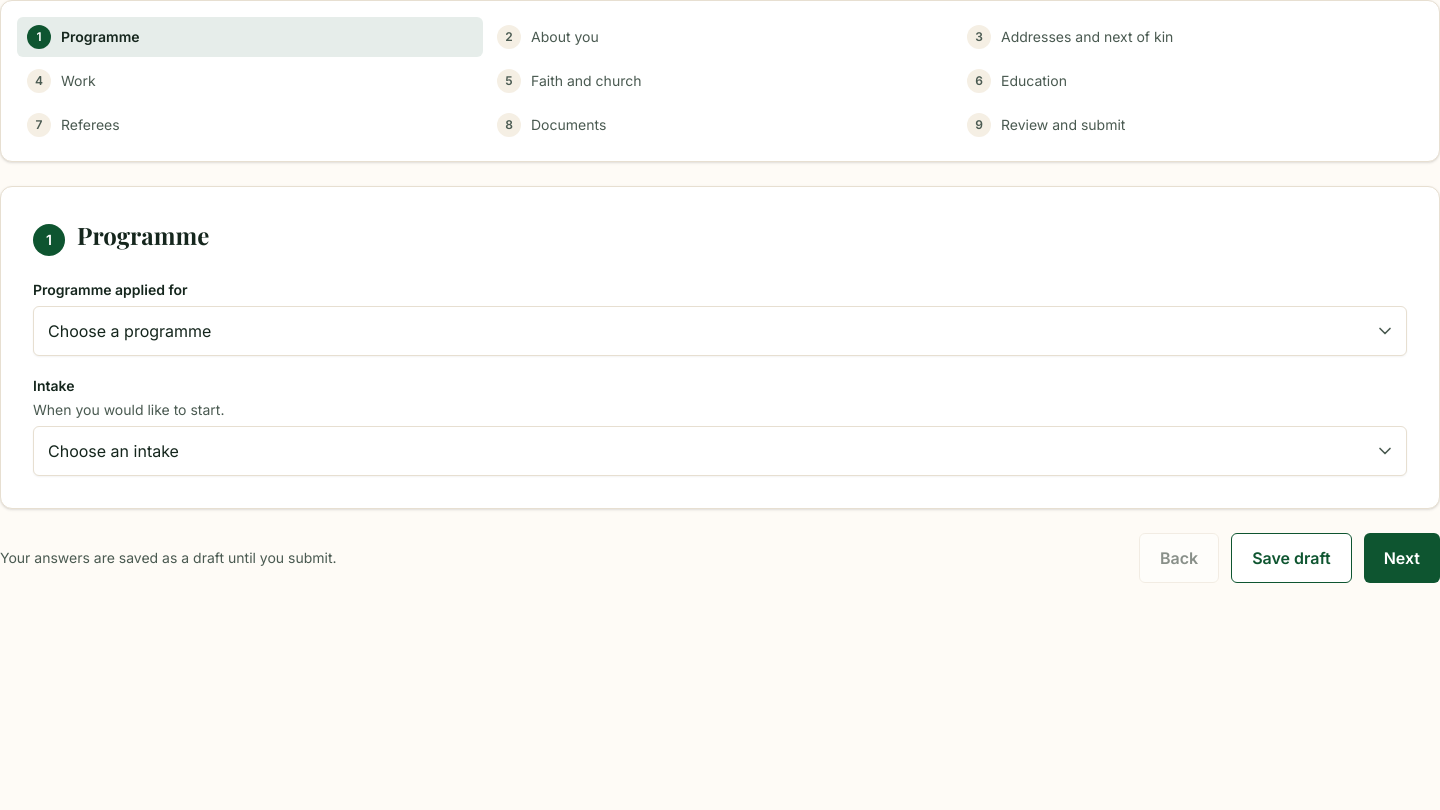
Test: ApplicationForm › the stepper jumps straight to a step
Click the button "5 Faith and church".
click(586, 80)  # box [487,61,953,101]
(page scrolled)
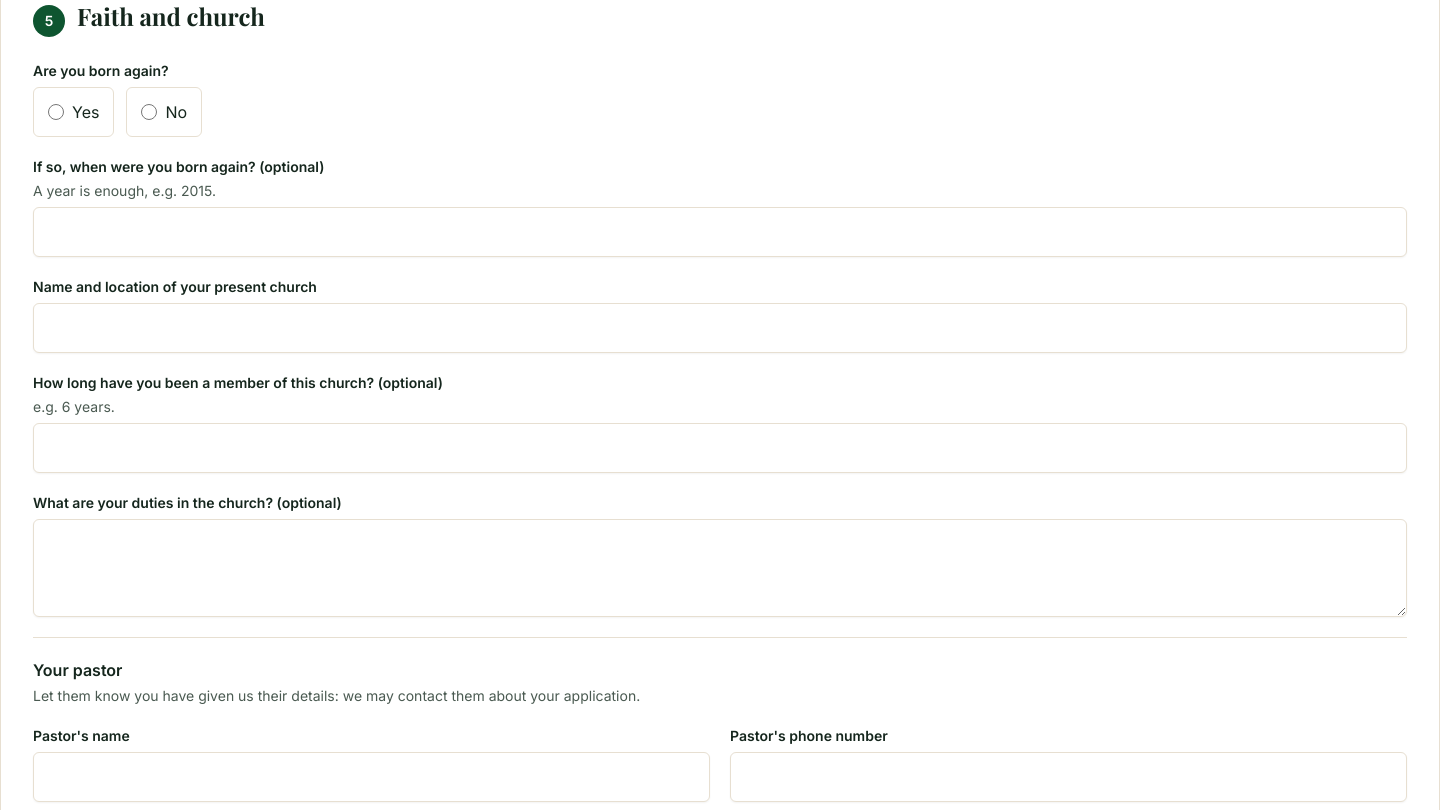
Expected: the element "Are you born again?" is shown, [33,62,202,137]
